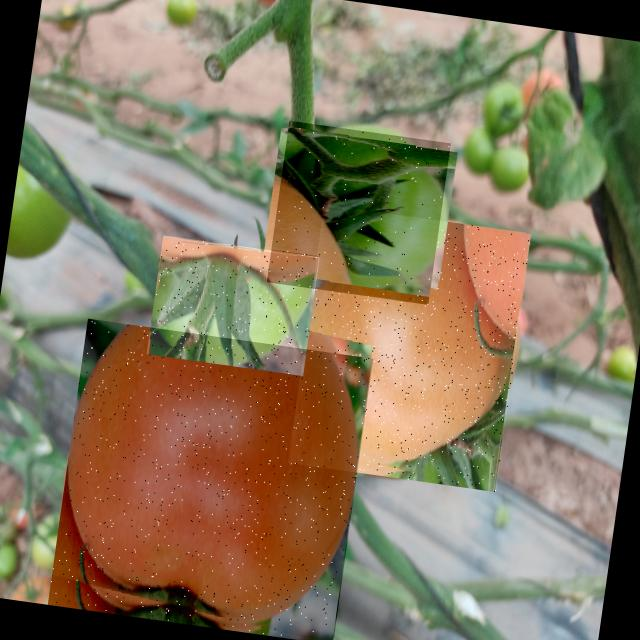Ripe Tomato: (47, 319, 372, 640), (288, 205, 532, 492)
Unripe Tomato: (267, 121, 451, 305), (146, 236, 320, 376)
